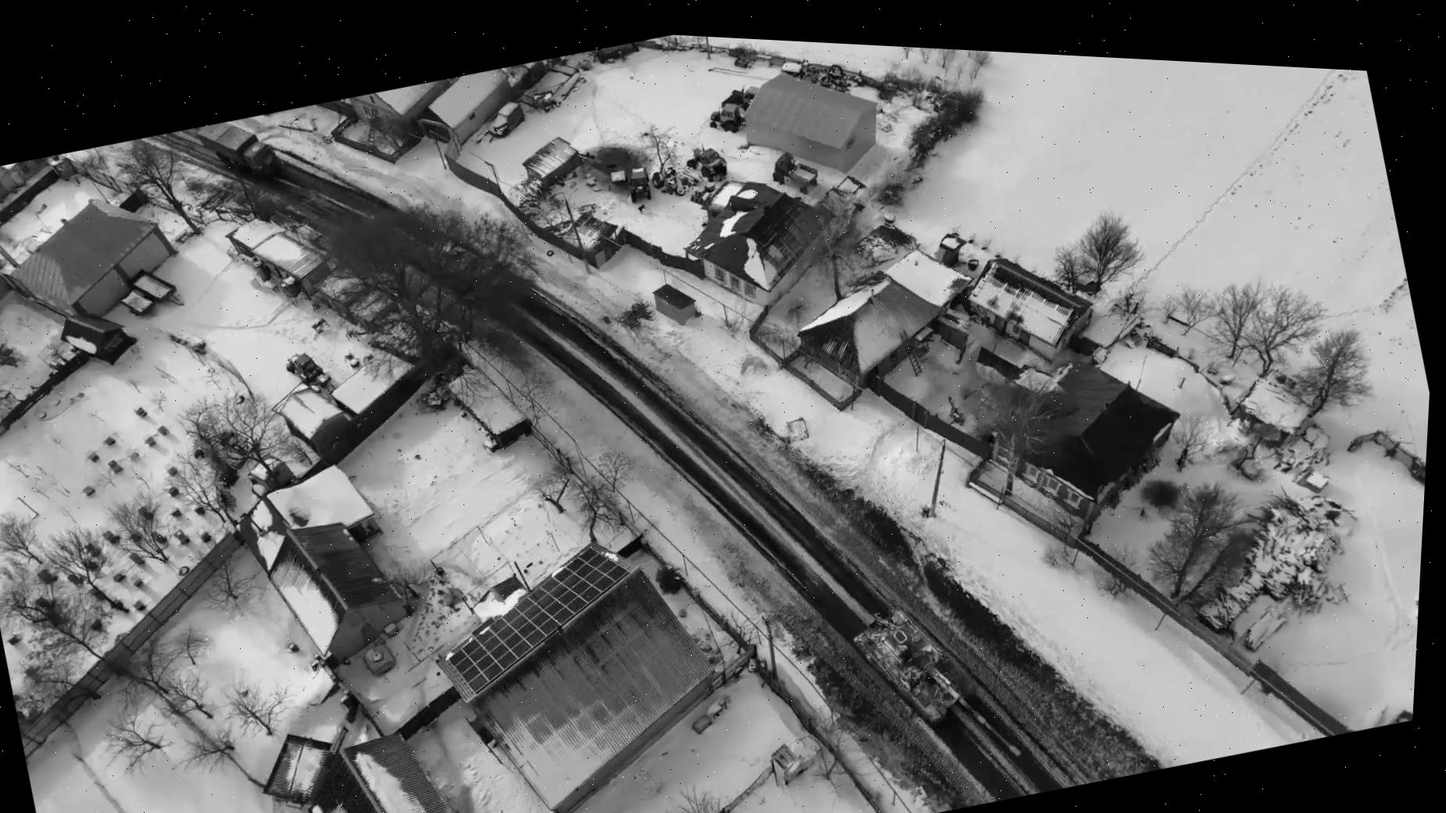car: (281, 344, 337, 401), (681, 138, 731, 186), (705, 99, 746, 139), (624, 165, 656, 205)
sau: (840, 581, 1032, 791)
truck: (191, 109, 286, 194)
